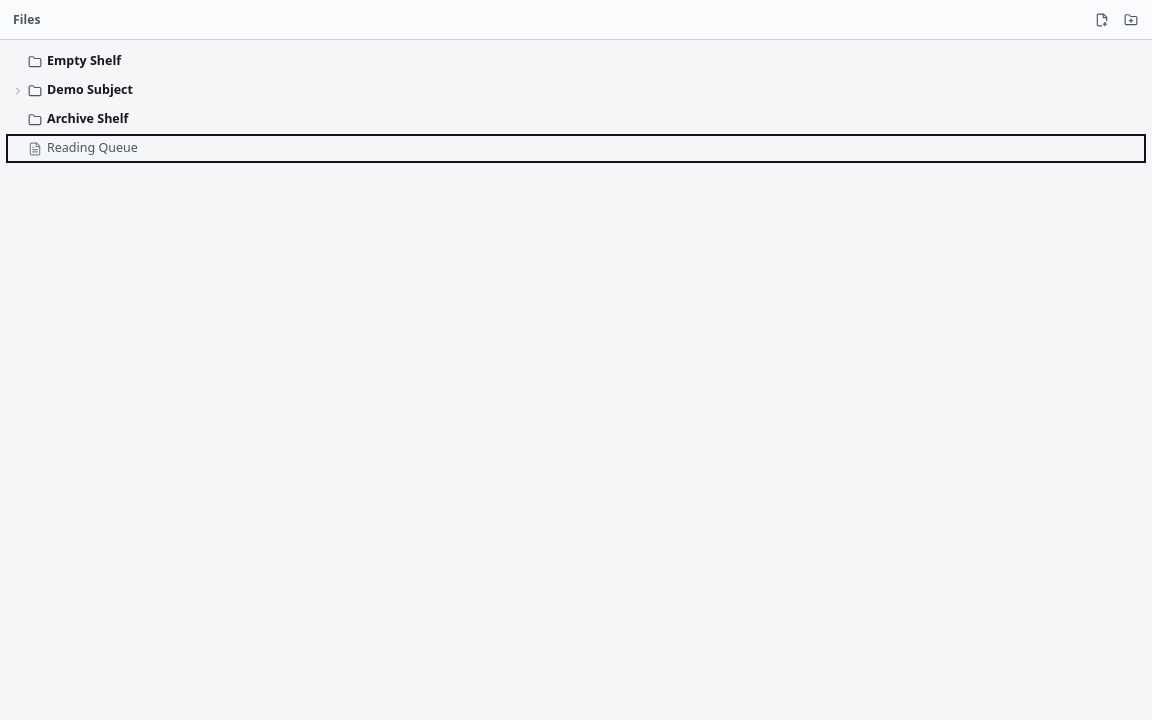
FileExplorer › requires confirmation before soft-delete and offers an immediate undo
Press Delete in the list item "Reading Queue", box [6, 134, 1146, 163]
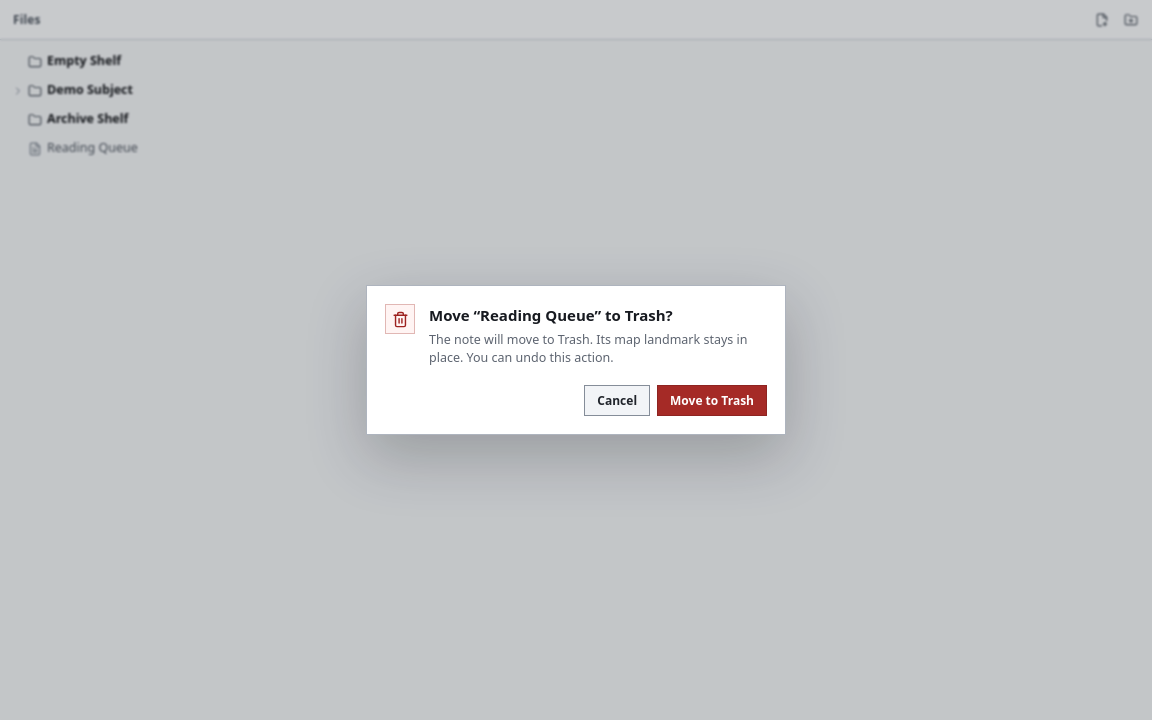
Check: the dialog "Move “Reading Queue” to Trash?" is shown, box [366, 285, 786, 435]
Click the button "Move to Trash".
click(712, 400)  # box [657, 385, 767, 416]
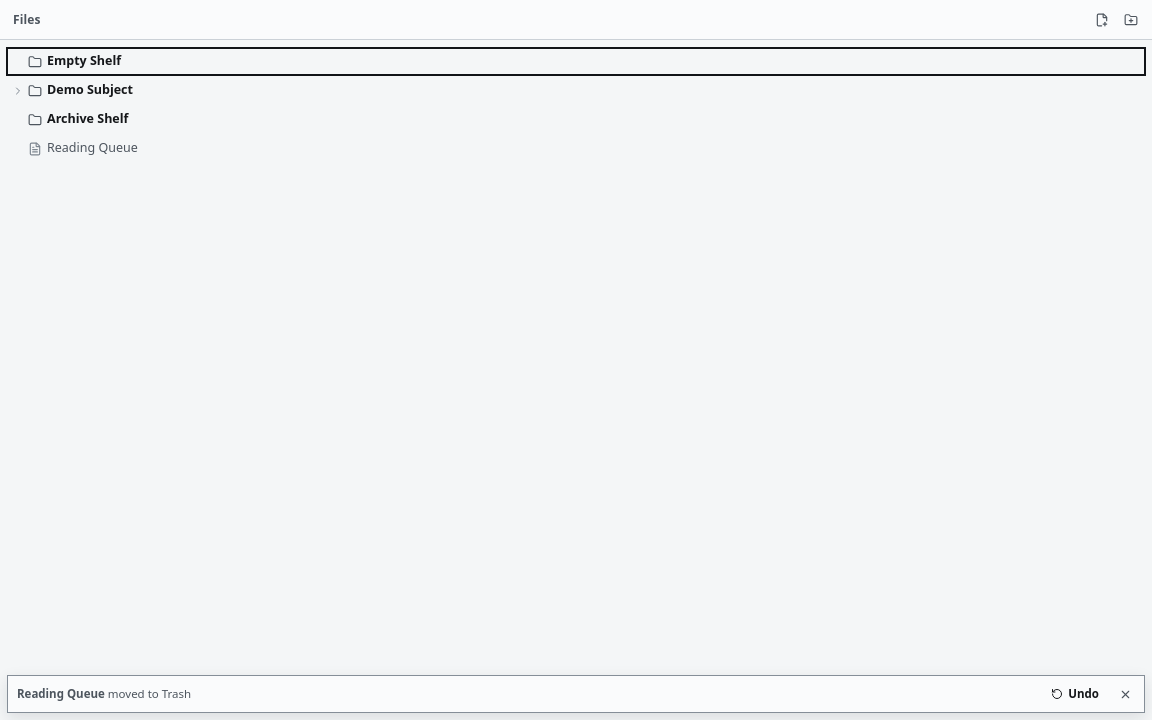
Check: the message shows "Reading Queue moved to Trash", box [7, 675, 1145, 713]
Click the button "Undo".
click(1075, 694)  # box [1043, 681, 1107, 707]
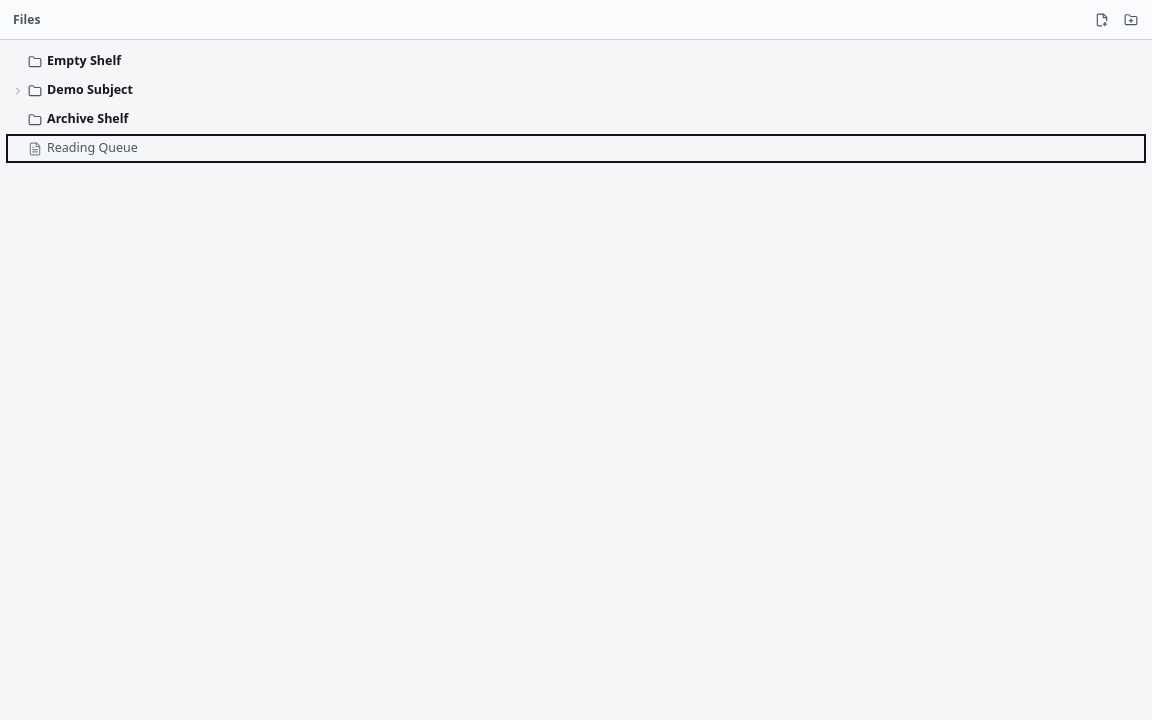
Check: the message "Reading Queue moved to Trash Undo" is gone
